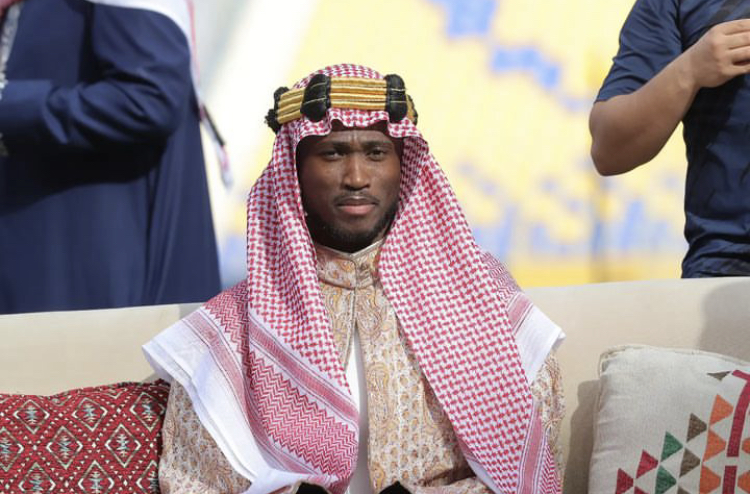Saudi_Founding_Day: (138, 57, 570, 494)
